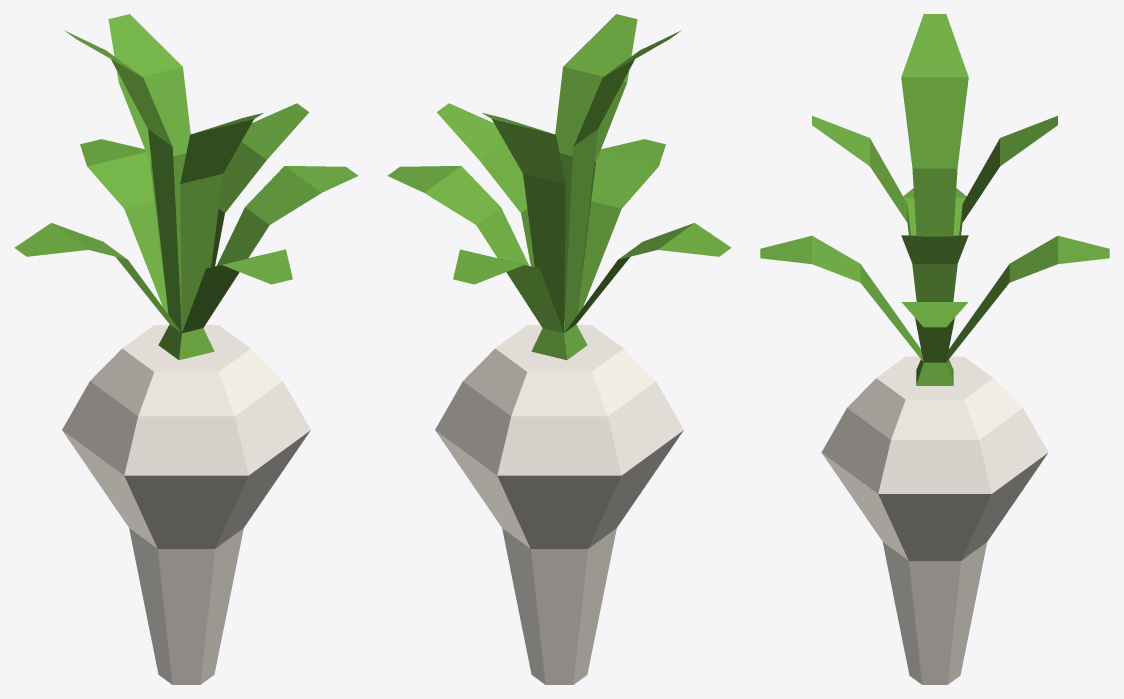
Rendered from crop_turnip.glb.
3 views of the same model, side by side, from view 1: azimuth 30°, elevation 25°; view 2: azimuth 150°, elevation 25°; view 3: azimuth 270°, elevation 25° (orthographic). The views are drawn at different scales.
Visible parts, largest first — view 1: crop_turnip; view 2: crop_turnip; view 3: crop_turnip.
Boxes of the visible parts, x1=… form: crop_turnip: x1=14, y1=14, x2=358, y2=684; crop_turnip: x1=387, y1=14, x2=731, y2=684; crop_turnip: x1=760, y1=14, x2=1109, y2=684.
Bounding box in the file's own units: 0.3431 × 0.6607 × 0.3431.
